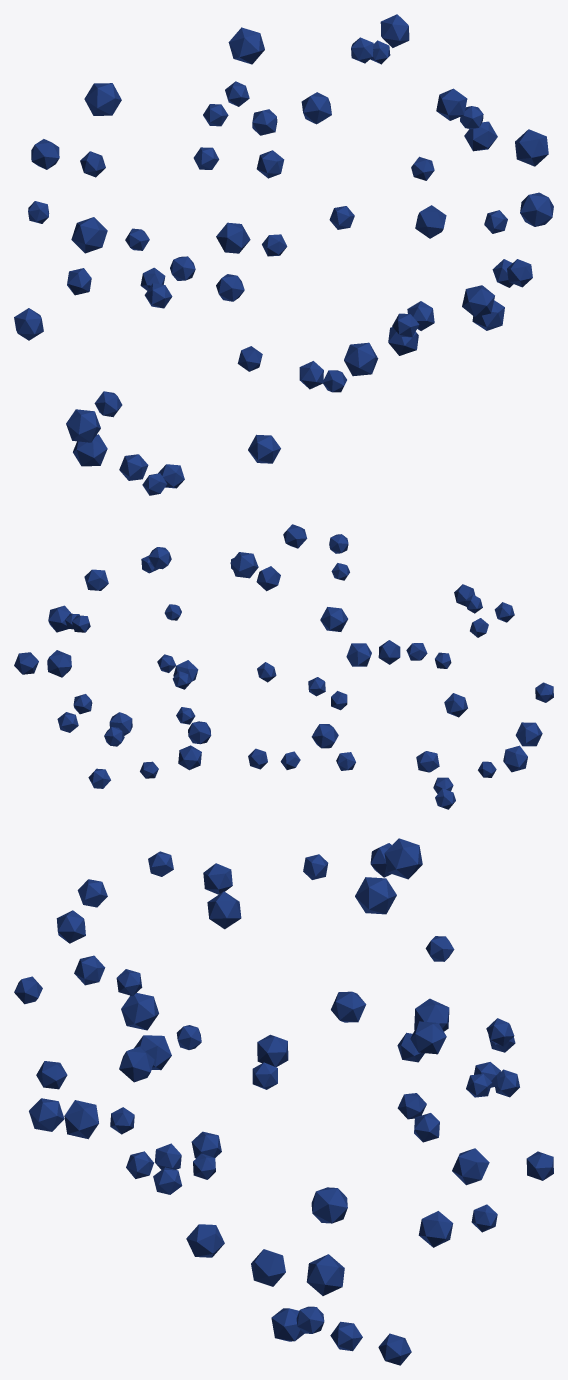
The model's file is BerryBush1_berries.fbx.
The picture shows the model from 3 angles, top to bottom: view 1: azimuth 30°, elevation 25°; view 2: azimuth 150°, elevation 25°; view 3: azimuth 270°, elevation 25°; orthographic projection. The views are drawn at different scales.
Visible parts, largest first — view 1: Berry; view 2: Berry; view 3: Berry.
Boxes of the visible parts, box(x1,y1,x2,y2) form: Berry: box(14, 14, 553, 495); Berry: box(14, 524, 553, 809); Berry: box(14, 838, 553, 1365).
Size of the model in its own units: 174 by 102 by 130.
